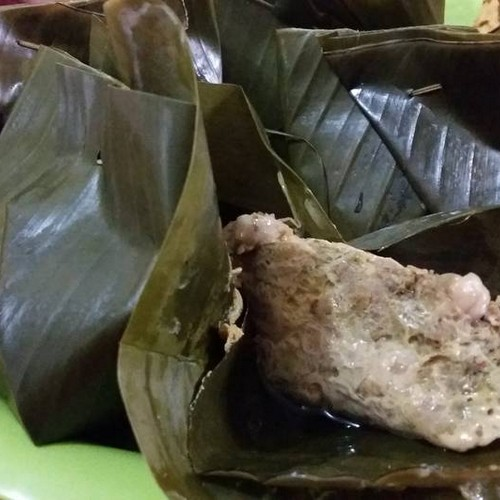tum ayam: (216, 204, 500, 447)
